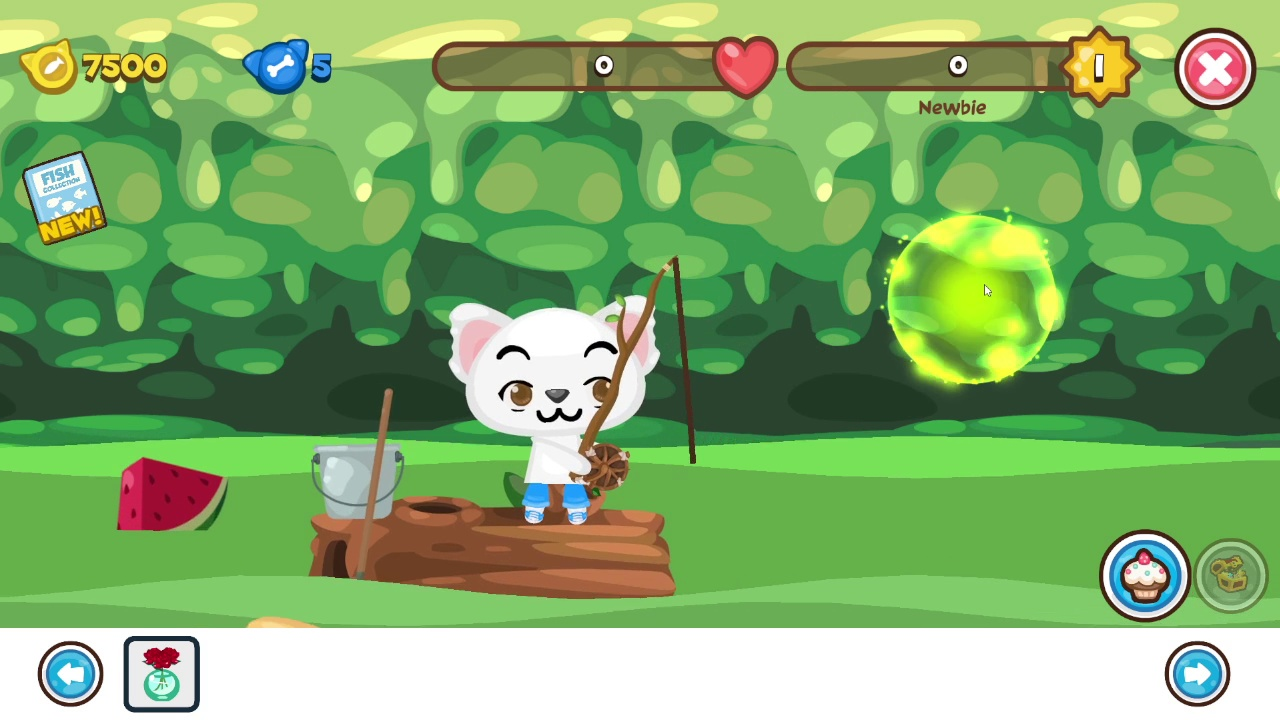point: (883, 215, 1061, 389)
